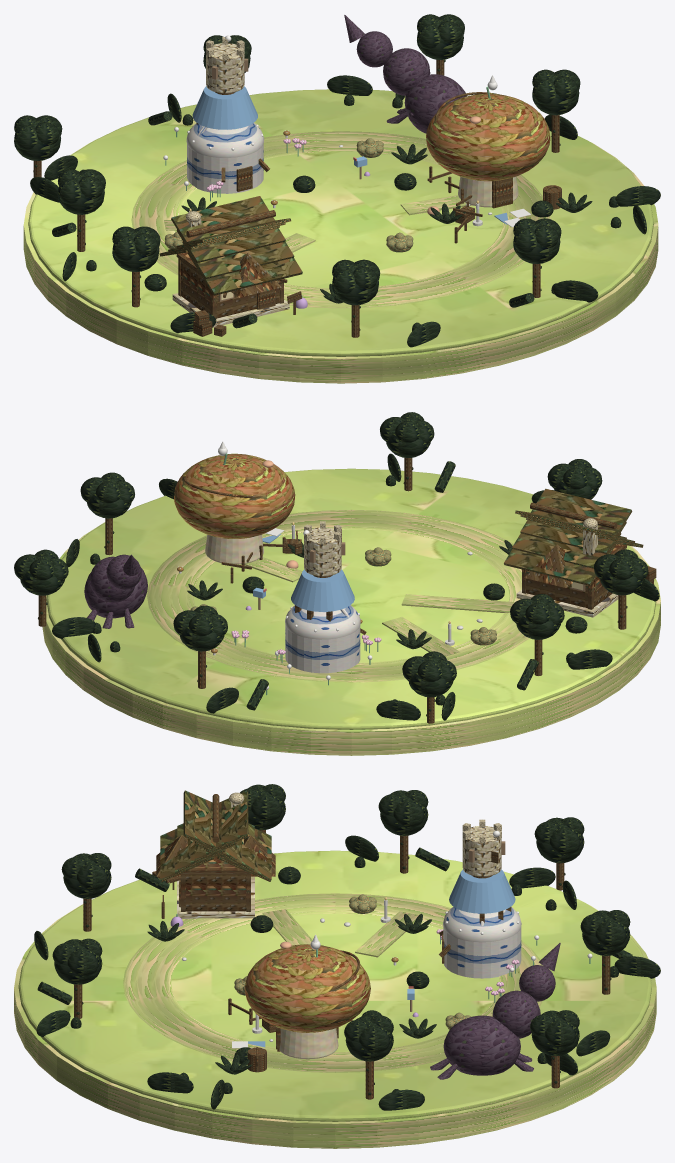
File: village_textured5.glb
3 views of the same model, one above another, from view 1: azimuth 30°, elevation 25°; view 2: azimuth 150°, elevation 25°; view 3: azimuth 270°, elevation 25° (orthographic). The views are drawn at different scales.
Visible parts, largest first — view 1: terrain_grass, terrain_dirt, path_ring, mushroom_cap, tower_pot, tower_cauldron, tower_pot_shoulder, purple_b1, cottage_roof_l3, cottage_wall, purple_b2, tower_stone (+20 smaller); view 2: terrain_grass, terrain_dirt, path_ring, mushroom_cap, tower_pot, tower_cauldron, cottage_roof_r3, tower_pot_shoulder, tower_stone, mushroom_stem, cottage_roof_r0, path_spoke_200 (+22 smaller); view 3: terrain_grass, terrain_dirt, path_ring, mushroom_cap, purple_b1, tower_pot, cottage_wall, tower_cauldron, tower_pot_shoulder, tower_stone, purple_b2, mushroom_stem (+32 smaller).
Boxes of the visible parts, x1,y1,x2,y2 form: terrain_grass: [28, 89, 653, 356]; terrain_dirt: [23, 142, 658, 383]; path_ring: [131, 131, 550, 308]; mushroom_cap: [426, 93, 550, 181]; tower_pot: [187, 144, 263, 193]; tower_cauldron: [192, 86, 257, 129]; tower_pot_shoulder: [186, 123, 264, 157]; purple_b1: [404, 74, 466, 133]; cottage_roof_l3: [171, 196, 274, 246]; cottage_wall: [181, 252, 279, 318]; purple_b2: [383, 48, 430, 95]; tower_stone: [206, 43, 244, 93]; terrain_grass: [46, 468, 656, 729]; terrain_dirt: [42, 522, 660, 755]; path_ring: [147, 509, 529, 682]; mushroom_cap: [174, 453, 295, 538]; tower_pot: [285, 625, 360, 673]; tower_cauldron: [291, 569, 354, 611]; cottage_roof_r3: [531, 488, 632, 538]; tower_pot_shoulder: [285, 605, 360, 639]; tower_stone: [304, 527, 341, 576]; mushroom_stem: [205, 534, 263, 564]; cottage_roof_r0: [504, 543, 615, 585]; path_spoke_200: [401, 594, 514, 612]; terrain_grass: [18, 850, 651, 1121]; terrain_dirt: [14, 904, 656, 1148]; path_ring: [123, 893, 542, 1072]; mushroom_cap: [244, 944, 370, 1032]; purple_b1: [443, 1015, 520, 1075]; tower_pot: [443, 926, 521, 978]; cottage_wall: [185, 856, 246, 911]; tower_cauldron: [449, 869, 515, 913]; tower_pot_shoulder: [443, 906, 521, 942]; tower_stone: [462, 826, 501, 876]; purple_b2: [492, 990, 540, 1038]; mushroom_stem: [279, 1028, 338, 1059].
Size of the model in its own units: 28 by 7.96 by 28.19.
Materials: 24 (11 with a texture image).
